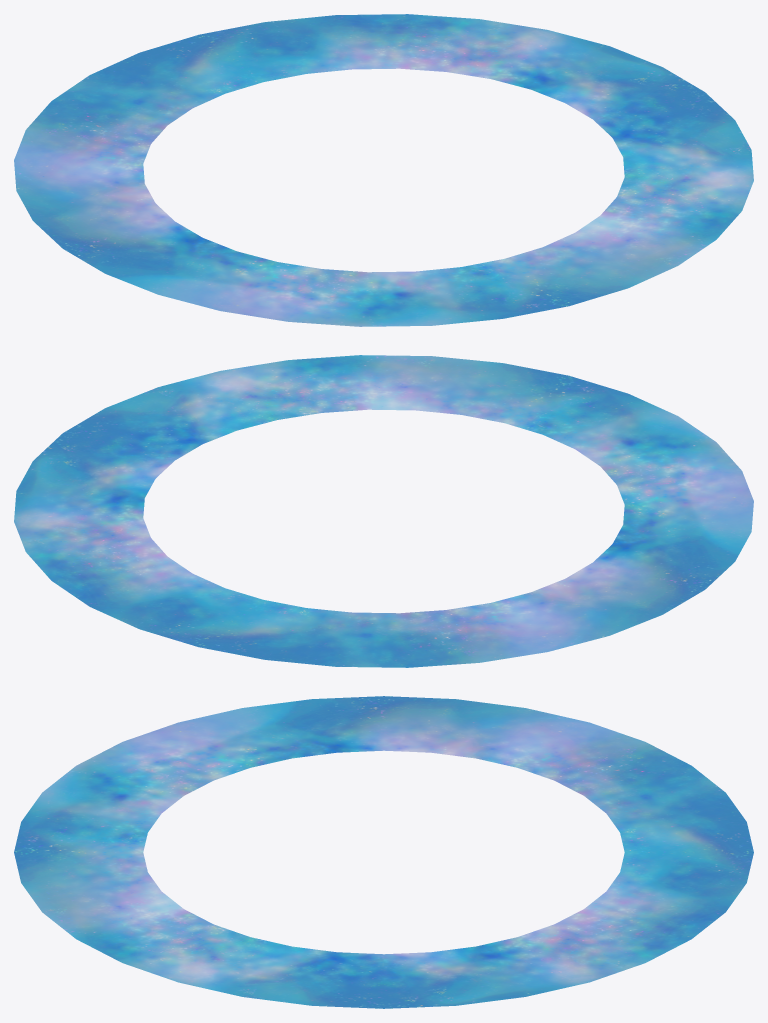
The model's file is VFX_WaterDiscCenterUVCamera.fbx.
3 renders of one model, top to bottom at view 1: azimuth 30°, elevation 25°; view 2: azimuth 150°, elevation 25°; view 3: azimuth 270°, elevation 25°, orthographic.
Parts seen in each view (by area): view 1: waterfall_center1; view 2: waterfall_center1; view 3: waterfall_center1.
Boxes of the visible parts, x1,y1,x2,y2 form: waterfall_center1: [14, 14, 753, 326]; waterfall_center1: [14, 355, 753, 667]; waterfall_center1: [14, 696, 753, 1008].
Bounding box in the file's own units: 1266 × 7.16e-12 × 1266.
